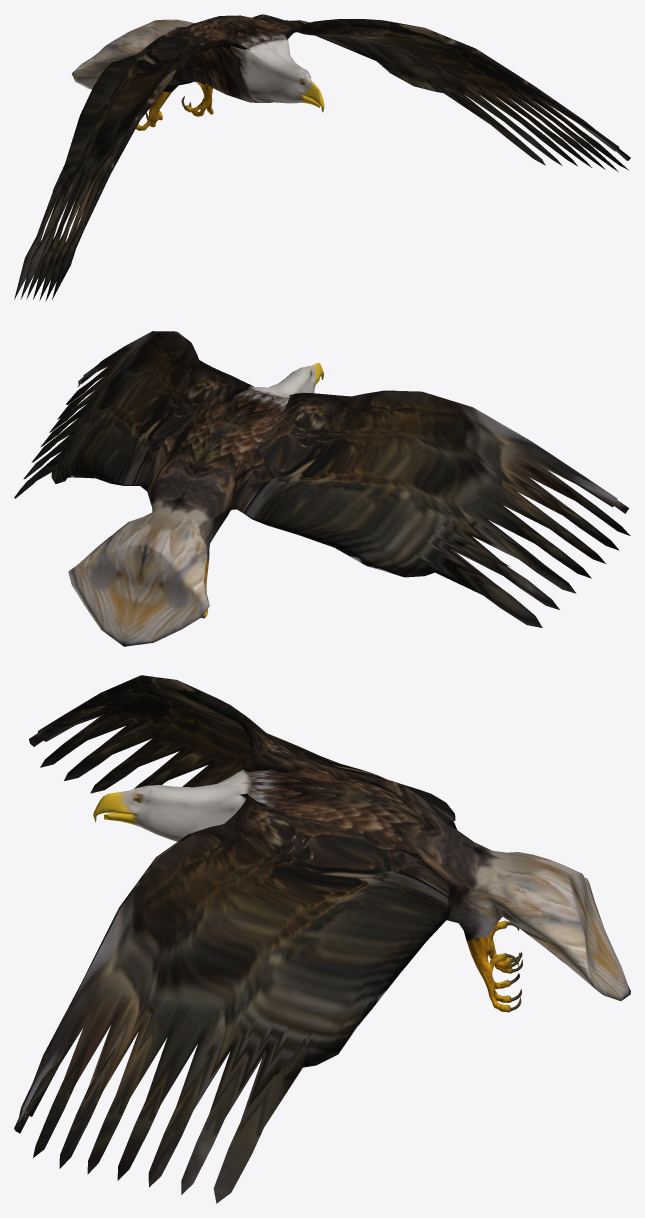
Rendered from Eagle-original_000106.obj.
3 renders of one model, top to bottom at view 1: azimuth 30°, elevation 25°; view 2: azimuth 150°, elevation 25°; view 3: azimuth 270°, elevation 25°, orthographic. The views are drawn at different scales.
Parts seen in each view (by area): view 1: Flugel_Plane.003; view 2: Flugel_Plane.003; view 3: Flugel_Plane.003.
Boxes of the visible parts, x1=… form: Flugel_Plane.003: x1=14, y1=14, x2=630, y2=301; Flugel_Plane.003: x1=14, y1=331, x2=630, y2=646; Flugel_Plane.003: x1=14, y1=675, x2=630, y2=1203.
Size of the model in its own units: 9.45 by 3.12 by 6.5.
Materials: 1 (1 with a texture image).
